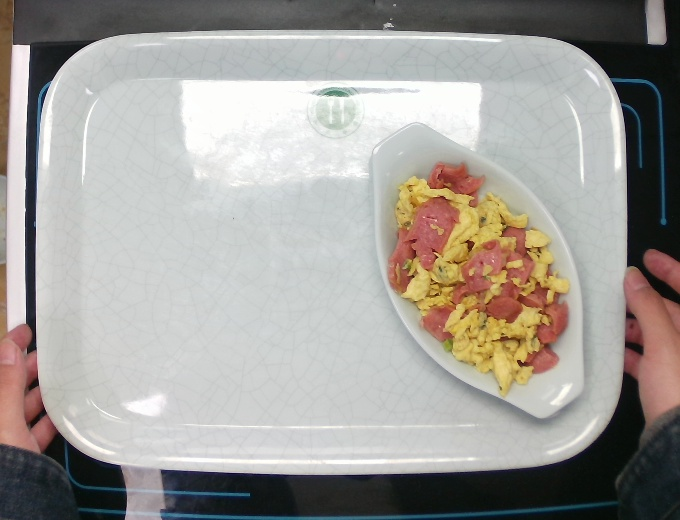JYsf-Yu_Pan: (361, 117, 592, 427)
